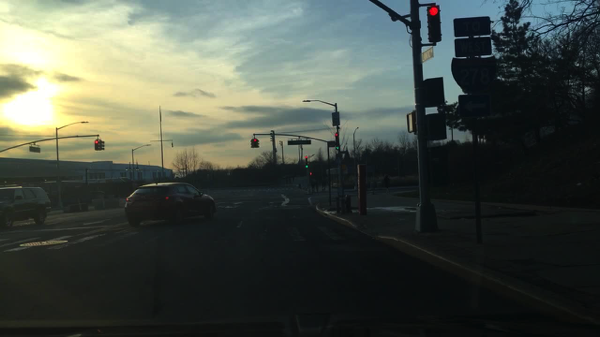car: (124, 181, 218, 227), (1, 184, 53, 229)
person: (382, 174, 392, 194), (321, 174, 327, 191), (310, 176, 315, 192), (315, 177, 320, 192)
traffic light: (426, 6, 441, 43), (406, 111, 416, 134), (94, 139, 99, 151), (334, 132, 339, 143), (335, 143, 341, 152), (100, 140, 105, 150), (253, 139, 256, 150), (256, 140, 260, 148), (304, 155, 308, 162), (250, 139, 253, 148), (305, 162, 308, 168), (308, 173, 313, 176)
traffic sign: (450, 58, 496, 92), (457, 94, 492, 119), (453, 37, 493, 57), (453, 16, 491, 36), (420, 46, 433, 63), (286, 140, 312, 145), (331, 112, 340, 125), (28, 146, 42, 152)
